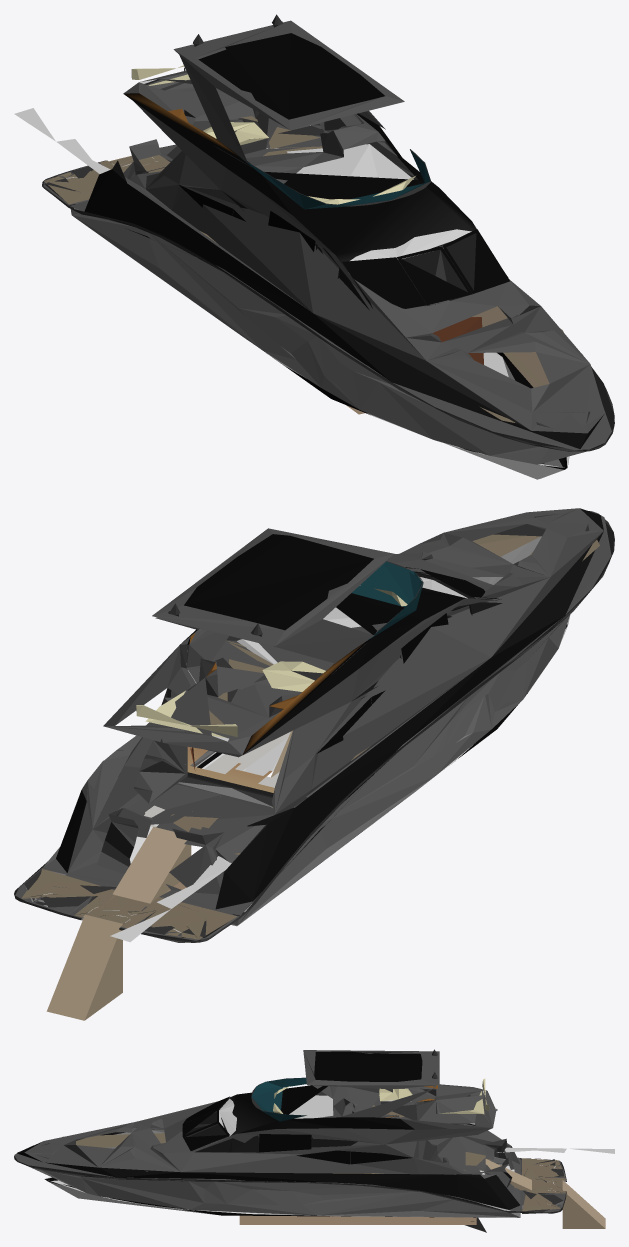
Rendered from lux-yacht.zfix-v14.lod2.glb.
The picture shows the model from 3 angles, top to bottom: view 1: azimuth 30°, elevation 25°; view 2: azimuth 150°, elevation 25°; view 3: azimuth 270°, elevation 25°; orthographic projection. The views are drawn at different scales.
Visible parts, largest first — view 1: Object_4; view 2: Object_4; view 3: Object_4.
Boxes of the visible parts, bbox=[...] form: Object_4: bbox=[14, 14, 614, 479]; Object_4: bbox=[14, 508, 614, 1020]; Object_4: bbox=[14, 1049, 614, 1232].
Size of the model in its own units: 8.49 by 11.74 by 39.04.
